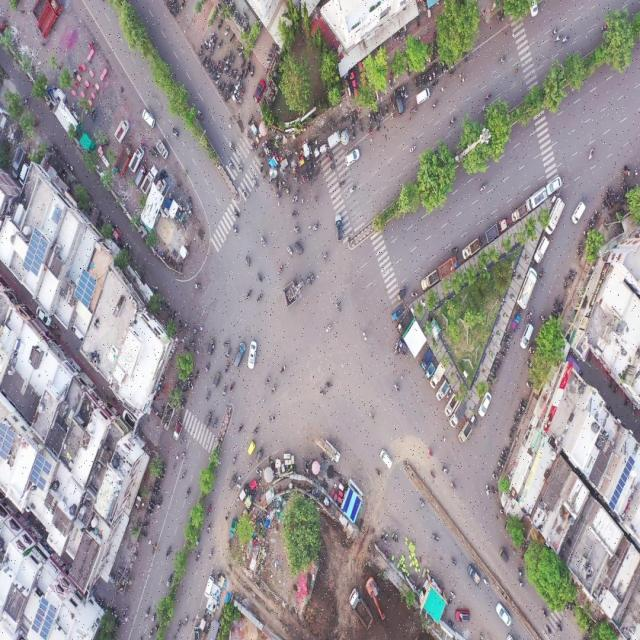3W: (396, 286, 407, 303), (499, 547, 509, 565), (229, 475, 238, 494), (254, 448, 264, 464), (212, 371, 221, 388), (294, 242, 303, 257), (247, 440, 256, 455), (207, 339, 215, 354), (204, 412, 211, 429), (349, 182, 357, 194), (339, 181, 345, 188)
Cars: (534, 232, 553, 265), (495, 603, 513, 628), (202, 573, 217, 599), (573, 198, 586, 226), (252, 78, 266, 103), (521, 323, 533, 352), (380, 443, 393, 469), (479, 393, 492, 419), (343, 147, 360, 166), (547, 175, 563, 195), (333, 213, 344, 242), (234, 341, 245, 369), (393, 87, 403, 116), (454, 607, 472, 623), (416, 87, 431, 105), (142, 109, 156, 128), (248, 341, 257, 370)
LCV: (518, 267, 537, 309), (546, 198, 566, 235), (112, 118, 131, 147), (526, 187, 547, 213), (437, 256, 457, 281), (431, 362, 446, 391), (451, 402, 467, 429), (129, 145, 144, 173), (462, 238, 480, 260), (421, 270, 438, 292), (324, 439, 340, 462), (444, 389, 457, 417), (467, 562, 481, 587), (395, 314, 410, 335), (511, 203, 527, 221), (460, 422, 473, 443), (437, 380, 450, 401), (420, 351, 433, 372), (328, 130, 343, 148), (156, 139, 169, 159), (510, 313, 521, 333), (172, 421, 183, 440), (391, 305, 403, 321), (396, 339, 408, 355), (425, 364, 435, 380)
M2W: (251, 173, 259, 194), (477, 183, 488, 197), (143, 604, 152, 620), (430, 531, 442, 543), (165, 574, 173, 590), (449, 481, 457, 497), (321, 251, 330, 265), (271, 380, 277, 400), (207, 520, 214, 537), (241, 183, 248, 200), (232, 208, 241, 221), (440, 465, 449, 478), (448, 113, 457, 126), (525, 308, 534, 321), (515, 577, 524, 590), (245, 254, 252, 270), (277, 262, 285, 276), (171, 126, 179, 140), (194, 550, 202, 564), (236, 158, 243, 174), (588, 145, 595, 161), (228, 141, 237, 153), (392, 382, 401, 394), (550, 27, 559, 39), (561, 33, 570, 45), (285, 245, 294, 257), (555, 622, 564, 634), (256, 272, 264, 285), (206, 505, 214, 518), (174, 619, 182, 632), (227, 159, 235, 172), (419, 498, 427, 511), (289, 196, 299, 206), (289, 208, 299, 218), (544, 623, 553, 634), (515, 567, 524, 578), (450, 245, 459, 256), (204, 360, 211, 374), (538, 267, 545, 281), (212, 415, 218, 431), (194, 279, 202, 291), (293, 224, 301, 236), (259, 235, 266, 248), (217, 18, 224, 31), (205, 390, 212, 403), (449, 554, 456, 567), (193, 369, 200, 382), (448, 616, 455, 629), (308, 271, 317, 281), (251, 427, 260, 437), (409, 105, 418, 115), (375, 467, 383, 478), (409, 144, 417, 155), (231, 224, 238, 236), (257, 291, 264, 303), (247, 285, 253, 299), (165, 545, 172, 557), (185, 485, 191, 499), (180, 449, 186, 463), (217, 38, 224, 50), (223, 24, 230, 36), (229, 31, 236, 43), (336, 300, 342, 314), (280, 364, 287, 376), (265, 376, 272, 388), (222, 384, 228, 398), (430, 469, 436, 483), (411, 287, 418, 299), (431, 98, 438, 110), (482, 577, 489, 589), (324, 380, 333, 389), (483, 92, 492, 101), (196, 49, 204, 59), (498, 54, 506, 64), (491, 473, 499, 483), (209, 548, 215, 561), (184, 614, 190, 627), (151, 610, 157, 623), (148, 627, 154, 640), (555, 33, 561, 46), (152, 542, 158, 555), (358, 122, 364, 135), (225, 348, 232, 359), (237, 423, 244, 434), (72, 67, 77, 82), (268, 414, 277, 422), (313, 221, 319, 233), (224, 361, 230, 373), (229, 382, 235, 394), (232, 453, 238, 465), (221, 82, 227, 94), (201, 42, 209, 51), (196, 109, 203, 119), (541, 608, 548, 618), (478, 233, 483, 247), (526, 381, 533, 391), (402, 85, 407, 99), (326, 323, 332, 334), (327, 152, 333, 163), (384, 531, 389, 544), (350, 115, 355, 128), (329, 117, 334, 130), (223, 339, 230, 348), (154, 479, 161, 488), (512, 418, 519, 427), (93, 111, 98, 123), (89, 108, 95, 118), (250, 66, 255, 78), (236, 44, 242, 54), (221, 55, 226, 67), (240, 82, 245, 94), (201, 56, 207, 66), (259, 160, 264, 172), (351, 128, 356, 140), (432, 79, 438, 89), (496, 14, 501, 26), (319, 390, 326, 398), (140, 532, 148, 539), (146, 504, 154, 511), (160, 462, 167, 470), (308, 159, 312, 173), (228, 69, 233, 80), (263, 170, 268, 181), (427, 448, 433, 457), (240, 59, 246, 68), (354, 111, 358, 124), (376, 120, 380, 133), (372, 112, 376, 125), (389, 78, 393, 91), (389, 94, 393, 107), (431, 66, 435, 79), (225, 511, 230, 521), (248, 115, 253, 125), (152, 489, 159, 496), (246, 132, 253, 139), (275, 193, 282, 200), (328, 165, 335, 172), (513, 412, 520, 419), (306, 278, 312, 286), (157, 497, 161, 509), (145, 511, 153, 517), (153, 146, 157, 158), (213, 36, 217, 48), (216, 59, 220, 71), (225, 59, 229, 71), (274, 177, 278, 189), (306, 171, 310, 183), (368, 112, 372, 124), (415, 76, 419, 88), (418, 74, 422, 86), (425, 74, 429, 86), (428, 71, 432, 83), (442, 61, 446, 73), (380, 530, 384, 542), (503, 345, 509, 353), (563, 277, 567, 289), (451, 591, 456, 600), (492, 367, 497, 376), (210, 32, 214, 43), (380, 109, 384, 120), (435, 66, 439, 77), (143, 522, 149, 529), (149, 149, 155, 156), (257, 152, 263, 159), (501, 8, 504, 22), (491, 490, 497, 497), (495, 467, 501, 474), (497, 462, 504, 468), (499, 351, 505, 358), (519, 403, 525, 410), (502, 450, 508, 457), (498, 457, 505, 463), (507, 331, 513, 338), (240, 46, 244, 56), (228, 49, 232, 59), (239, 71, 243, 81), (219, 66, 223, 76), (243, 69, 247, 79), (301, 173, 305, 183), (279, 178, 282, 191), (205, 40, 211, 46), (231, 56, 235, 65), (216, 75, 220, 84), (385, 105, 388, 117), (377, 105, 380, 117), (422, 75, 425, 87), (496, 358, 502, 364), (494, 363, 499, 370), (234, 69, 237, 79)
Truck: (348, 589, 374, 630), (35, 0, 61, 38), (114, 141, 133, 177)
